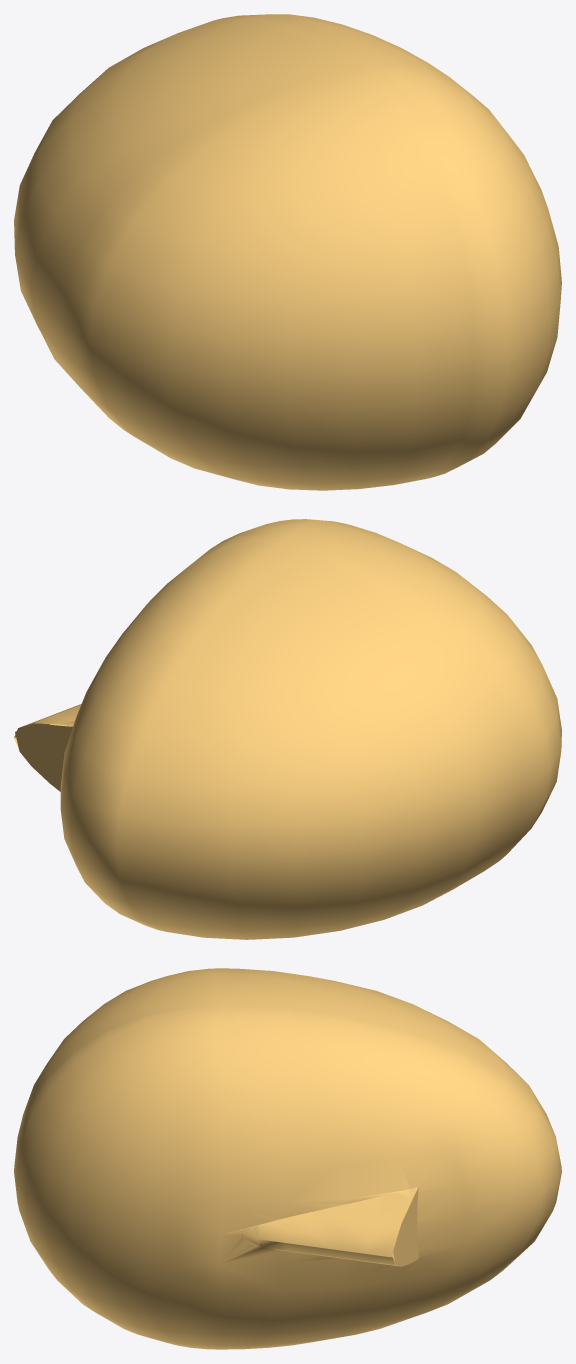
Rendered from HEAD2.obj.
The picture shows the model from 3 angles, top to bottom: view 1: azimuth 30°, elevation 25°; view 2: azimuth 150°, elevation 25°; view 3: azimuth 270°, elevation 25°; orthographic projection. The views are drawn at different scales.
Parts seen in each view (by area): view 1: Brep__0; view 2: Brep__0; view 3: Brep__0.
Boxes of the visible parts, left/top/right/bottom form: Brep__0: left=14, top=14, right=561, bottom=490; Brep__0: left=14, top=519, right=561, bottom=939; Brep__0: left=14, top=968, right=561, bottom=1349.
Size of the model in its own units: 0.1809 by 0.1385 by 0.2073.
